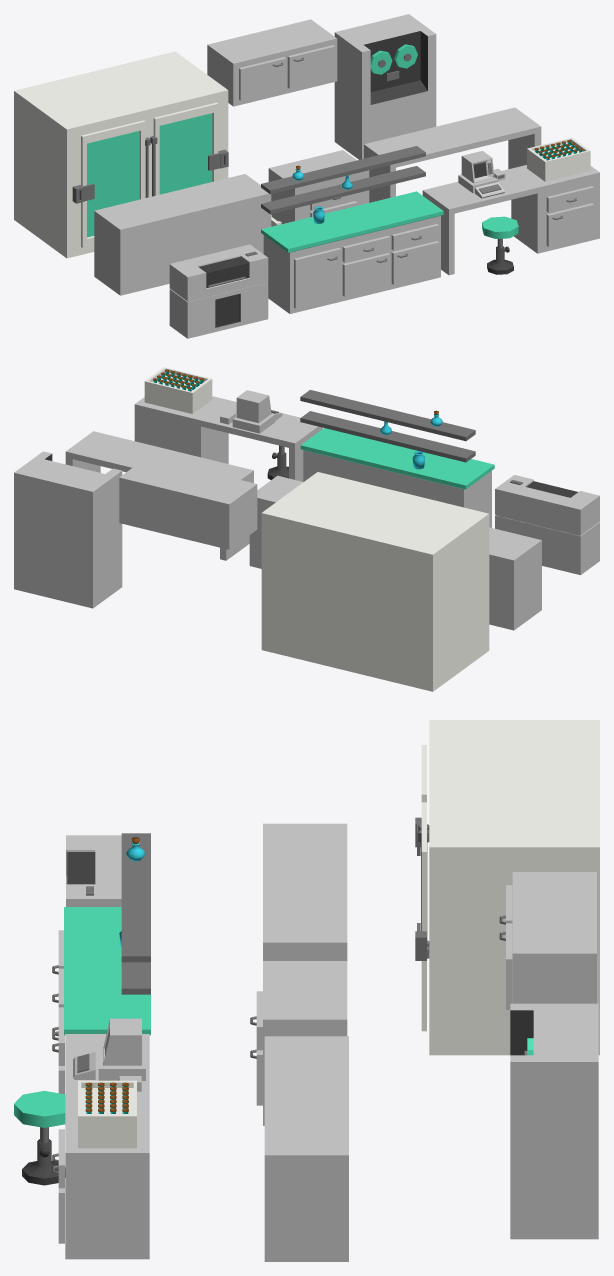
Rendered from Potions.fbx.
The picture shows the model from 3 angles, top to bottom: view 1: azimuth 30°, elevation 25°; view 2: azimuth 150°, elevation 25°; view 3: azimuth 270°, elevation 25°; orthographic projection. The views are drawn at different scales.
Visible parts, largest first — view 1: frezzer, balcony_center, balcony_base, record, balcony_seat, air_balcony, balcony_printer, balcony_table, balcony_bidet, box_samples, computer, chair (+1 smaller); view 2: frezzer, record, balcony_center, air_balcony, balcony_printer, balcony_seat, balcony_base, balcony_table, box_samples, computer, balcony_bidet, samples (+1 smaller); view 3: frezzer, record, balcony_table, balcony_center, balcony_seat, air_balcony, balcony_base, balcony_bidet, balcony_printer, box_samples, computer, chair (+1 smaller).
Boxes of the visible parts, x1,y1,x2,y2 form: frezzer: (14,51,228,258); balcony_center: (261,146,443,313); balcony_base: (94,174,271,295); record: (334,14,436,159); balcony_seat: (422,165,599,275); air_balcony: (207,19,337,106); balcony_printer: (169,244,268,338); balcony_table: (364,107,541,202); balcony_bidet: (268,150,369,223); box_samples: (527,137,590,181); computer: (458,151,505,198); chair: (482,216,518,274); frezzer: (261,472,489,691); record: (14,451,122,608); balcony_center: (300,390,494,527); air_balcony: (119,457,257,549); balcony_printer: (495,475,599,575); balcony_seat: (134,396,322,481); balcony_base: (489,527,541,630); balcony_table: (65,431,253,560); box_samples: (144,367,212,413); computer: (220,390,282,433); balcony_bidet: (249,475,303,568); samples: (153,369,203,391); frezzer: (415,720,599,1055); record: (510,1003,598,1239); balcony_table: (264,1036,348,1261); balcony_center: (52,833,150,1094); balcony_seat: (52,1034,149,1259); air_balcony: (499,872,596,1009); balcony_base: (263,823,347,960); balcony_bidet: (250,961,347,1125); balcony_printer: (66,835,121,906); box_samples: (78,1080,136,1148); computer: (73,1018,145,1091); chair: (14,1091,65,1185).
Size of the model in its own units: 1868 by 545 by 1387.
